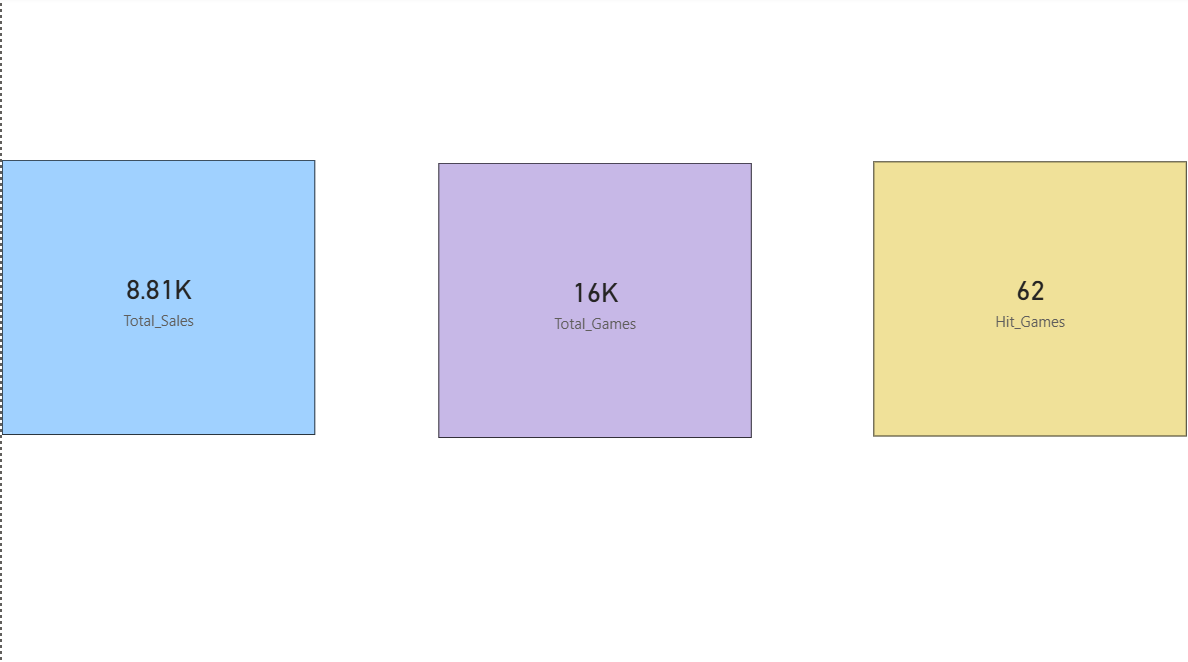

What the dashboard file says about the page in this screenshot:
{"tool":"powerbi","page":{"name":"Cards","canvas":[1280,720],"ordinal":0},"visuals":[{"type":"card","fields":{"Values":["video_games_sales.Total_Sales"]},"box":[0,177.6,338.3,296.7],"z":0},{"type":"card","fields":{"Values":["video_games_sales.Total_Games"]},"box":[470.6,181.4,338.3,296.7],"z":1000},{"type":"card","fields":{"Values":["video_games_sales.Hit_Games"]},"box":[941.1,179.5,338.3,296.7],"z":2000}]}

Visuals, with their boxes in screenshot pixels (x1, y1, x2, y2), scaled from the page's 1280x720 canvas onto the 1188x662 screenshot:
card - video_games_sales.Total_Sales: left=0, top=163, right=314, bottom=436
card - video_games_sales.Total_Games: left=437, top=167, right=751, bottom=440
card - video_games_sales.Hit_Games: left=873, top=165, right=1187, bottom=438
